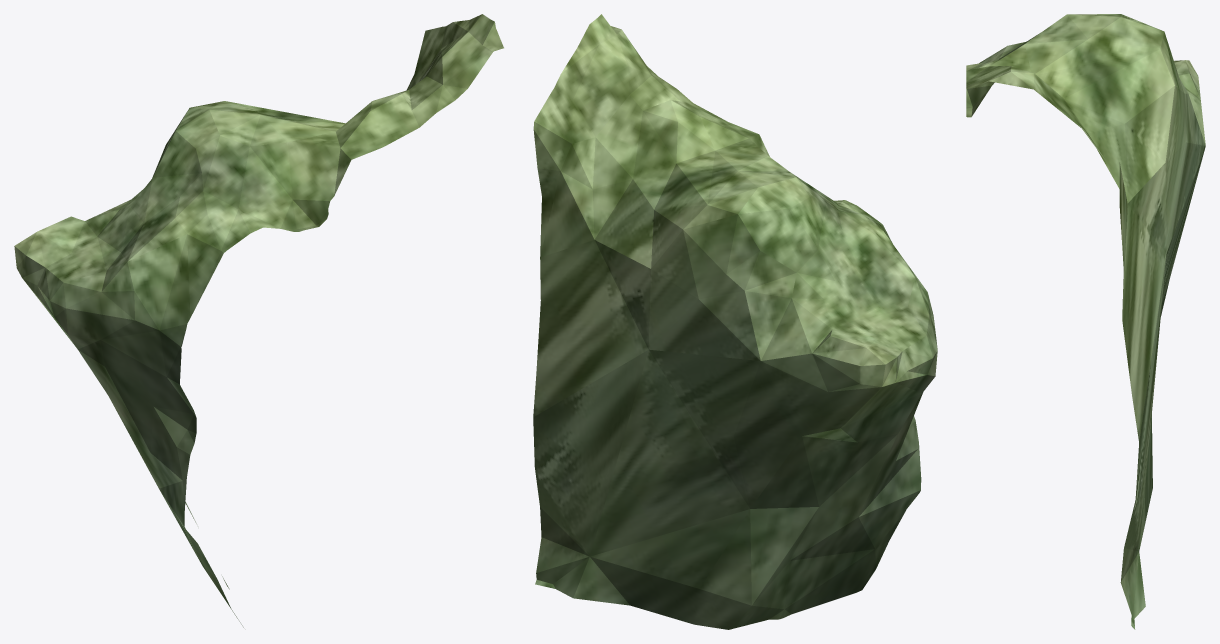
3 views of the same model, side by side, from view 1: azimuth 30°, elevation 25°; view 2: azimuth 150°, elevation 25°; view 3: azimuth 270°, elevation 25° (orthographic). The views are drawn at different scales.
Size of the model in its own units: 1.69 by 2.21 by 0.8269.
Materials: 2 (2 with a texture image).
